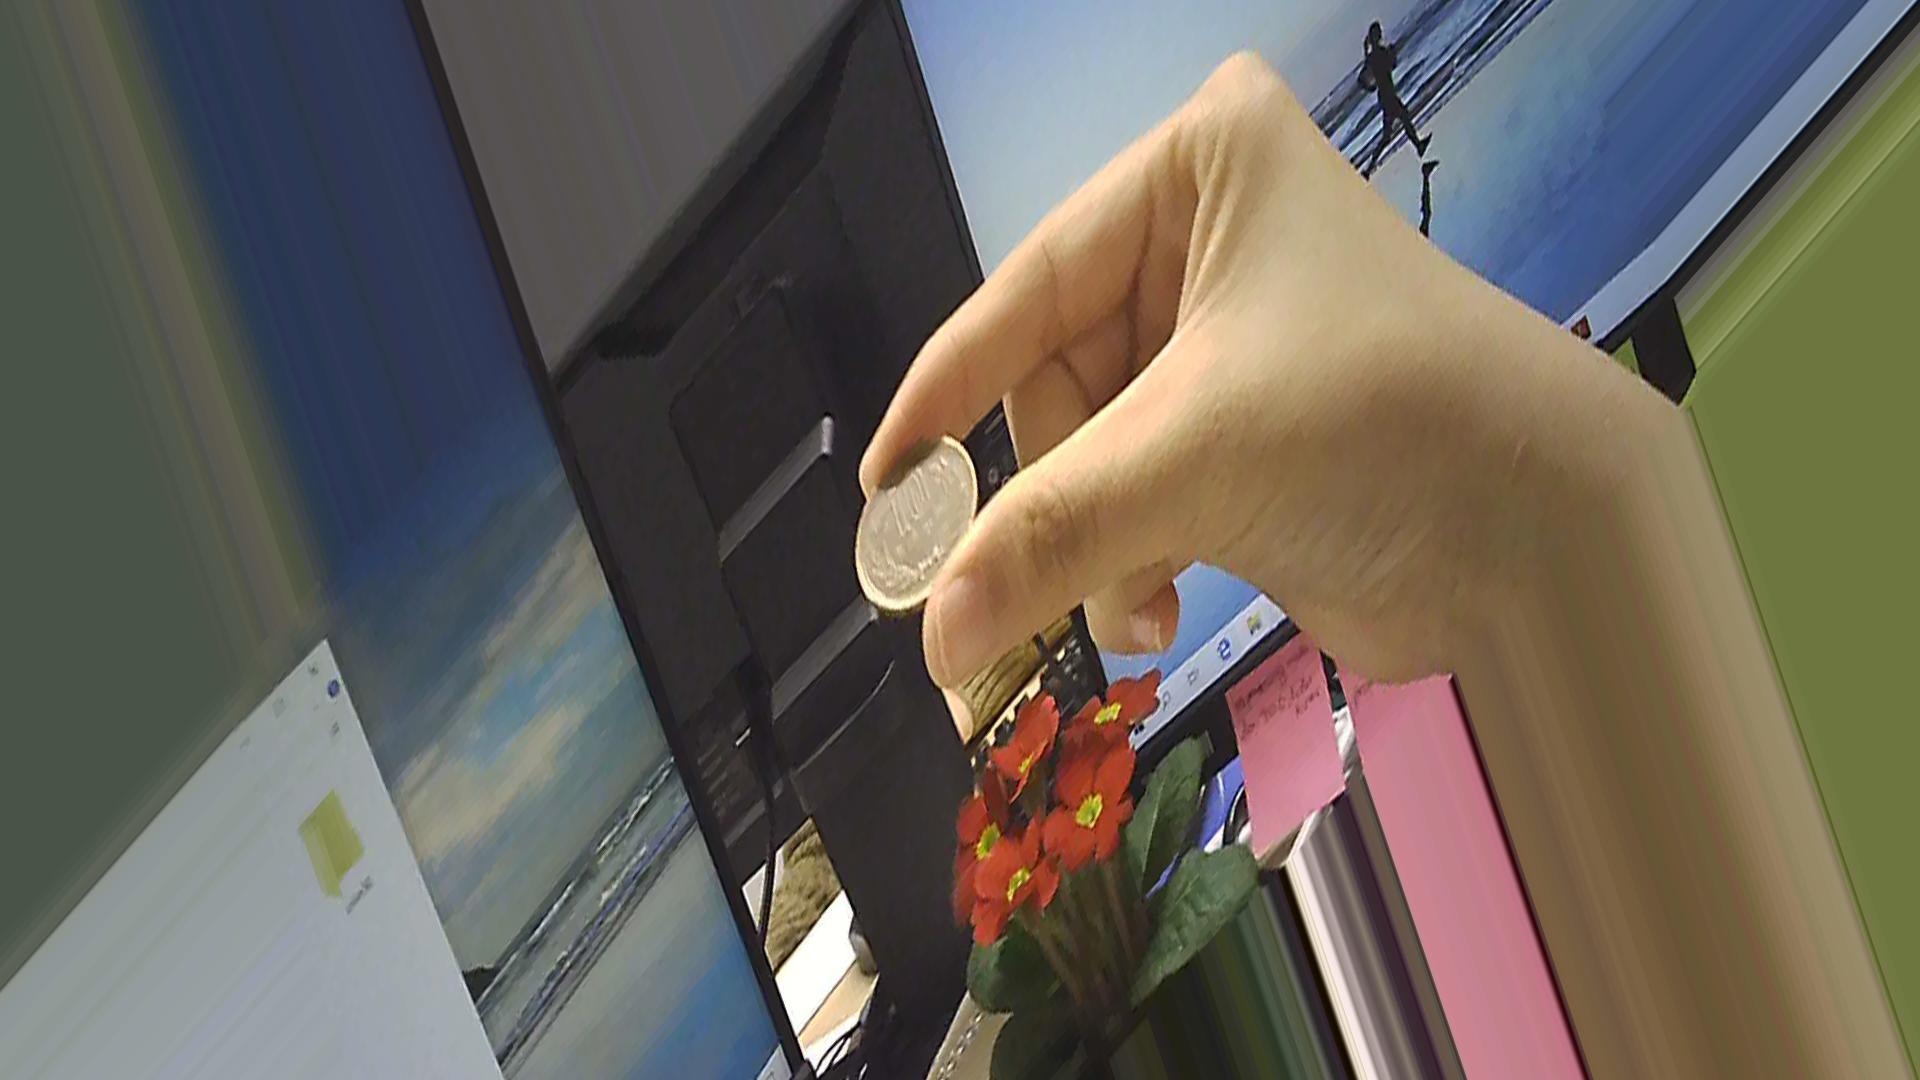10 Yen: (841, 443, 975, 611)
